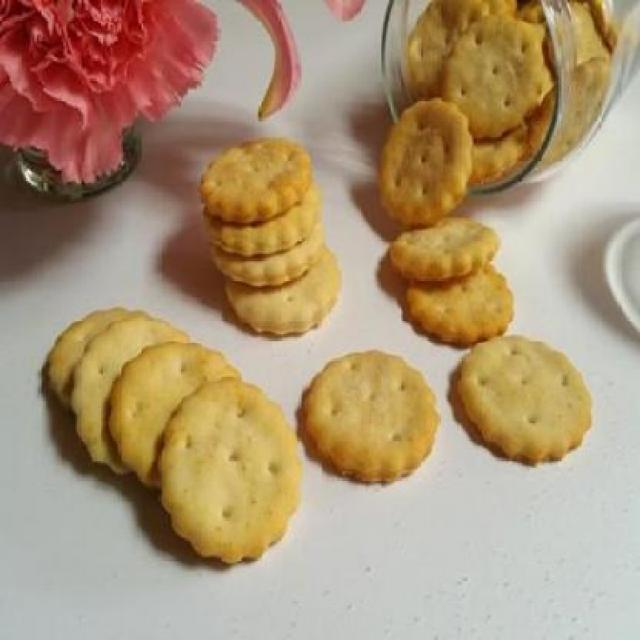Ritz cracker packaged: (29, 112, 622, 562)
